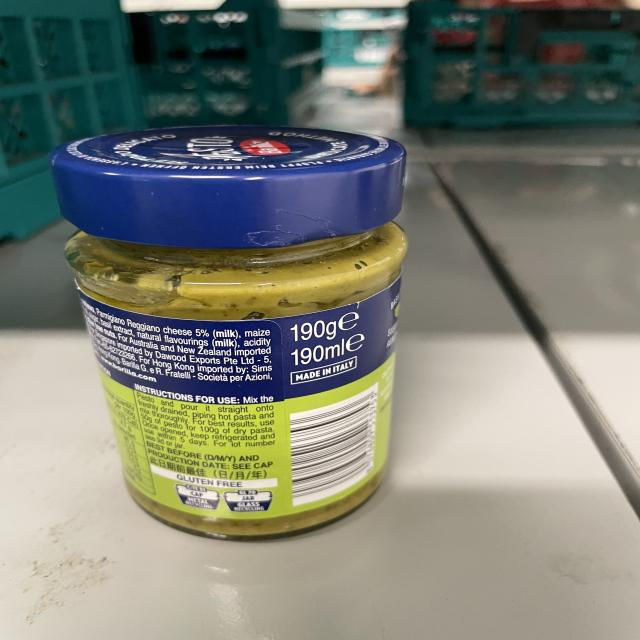object_name: (55, 130, 405, 538)
